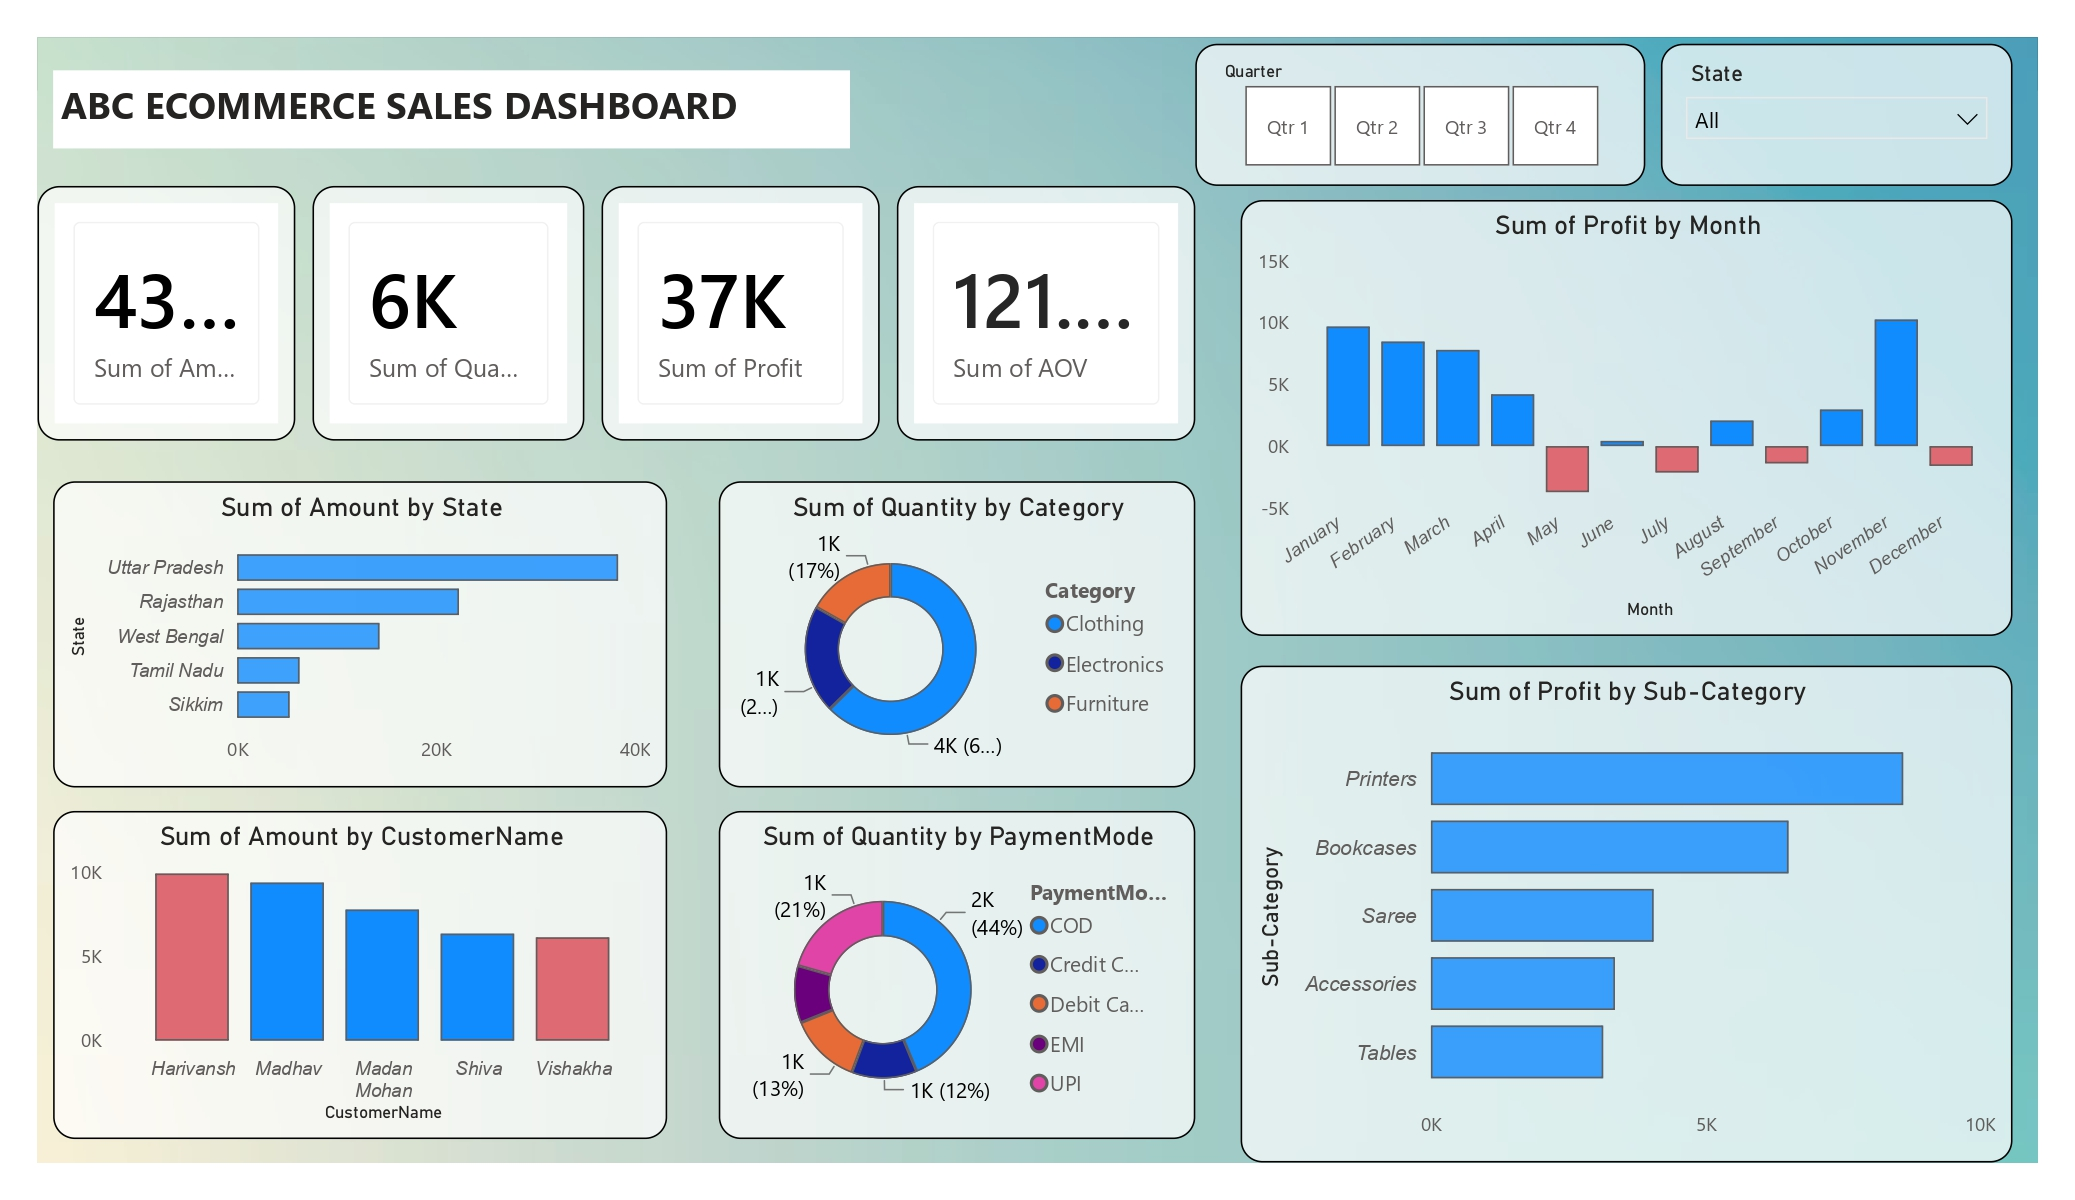

The page's visual inventory and layout, read from the dashboard file:
{"tool":"powerbi","page":{"name":"Page 1","canvas":[1280,720],"ordinal":0},"visuals":[{"type":"textbox","box":[9.6,20.6,510.5,50.8],"z":0},{"type":"columnChart","fields":{"Y":["Sum(Details.Profit)"],"Category":["Orders.Order Date.Variation.Date Hierarchy.Month"]},"box":[769.8,104.3,494,278.6],"z":1},{"type":"barChart","fields":{"Category":["Details.Sub-Category"],"Y":["Sum(Details.Profit)"]},"box":[769.8,402.1,494,318.4],"z":2},{"type":"donutChart","fields":{"Category":["Details.Category"],"Y":["Sum(Details.Quantity)"]},"box":[436.4,284,304.6,196.2],"z":3},{"type":"donutChart","fields":{"Y":["Sum(Details.Quantity)"],"Series":["Details.PaymentMode"]},"box":[436.4,495.4,304.6,209.9],"z":4},{"type":"cardVisual","fields":{"Data":["Sum(Details.Amount)"]},"box":[0,94.7,164.7,163.3],"z":5},{"type":"cardVisual","fields":{"Data":["Sum(Details.Quantity)"]},"box":[175.6,94.7,174.3,163.3],"z":6},{"type":"cardVisual","fields":{"Data":["Sum(Details.Profit)"]},"box":[360.9,94.7,178.4,163.3],"z":7},{"type":"cardVisual","fields":{"Data":["Sum(Details.AOV)"]},"box":[550.3,94.7,190.7,163.3],"z":8},{"type":"barChart","fields":{"Category":["Orders.State"],"Y":["Sum(Details.Amount)"]},"box":[9.6,284,393.8,196.2],"z":9},{"type":"columnChart","fields":{"Category":["Orders.CustomerName"],"Y":["Sum(Details.Amount)"]},"box":[9.6,495.4,393.8,209.9],"z":10},{"type":"slicer","fields":{"Values":["Orders.Order Date.Variation.Date Hierarchy.Quarter"]},"box":[741,4.1,288.2,90.6],"z":11},{"type":"slicer","fields":{"Values":["Orders.State"]},"box":[1038.8,4.1,225,90.6],"z":12}]}

Visuals, with their boxes in screenshot pixels (x1, y1, x2, y2):
textbox: select_region(63, 70, 851, 148)
columnChart - Sum(Details.Profit) x Orders.Order Date.Variation.Date Hierarchy.Month: select_region(1236, 199, 1997, 628)
barChart - Details.Sub-Category x Sum(Details.Profit): select_region(1236, 658, 1997, 1149)
donutChart - Details.Category x Sum(Details.Quantity): select_region(722, 476, 1191, 778)
donutChart - Sum(Details.Quantity) x Details.PaymentMode: select_region(722, 802, 1191, 1125)
cardVisual - Sum(Details.Amount): select_region(49, 184, 303, 436)
cardVisual - Sum(Details.Quantity): select_region(319, 184, 588, 436)
cardVisual - Sum(Details.Profit): select_region(605, 184, 880, 436)
cardVisual - Sum(Details.AOV): select_region(897, 184, 1191, 436)
barChart - Orders.State x Sum(Details.Amount): select_region(63, 476, 671, 778)
columnChart - Orders.CustomerName x Sum(Details.Amount): select_region(63, 802, 671, 1125)
slicer - Orders.Order Date.Variation.Date Hierarchy.Quarter: select_region(1191, 44, 1636, 184)
slicer - Orders.State: select_region(1650, 44, 1997, 184)
